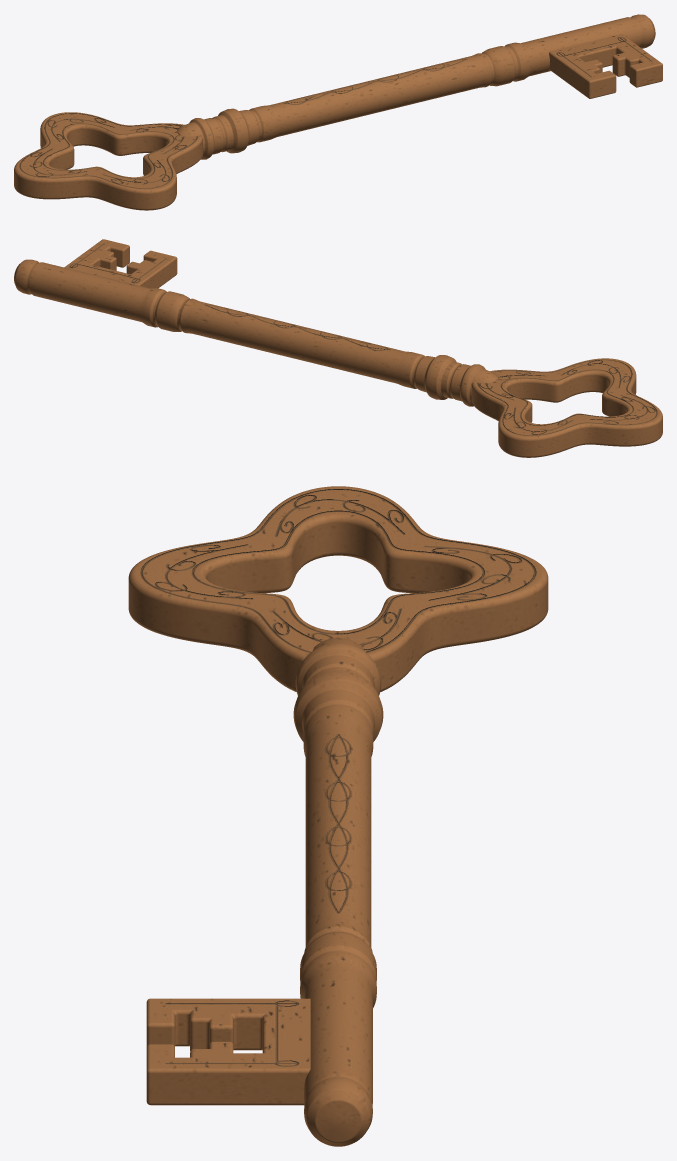
File: key-pickup-web.glb
3 renders of one model, top to bottom at view 1: azimuth 30°, elevation 25°; view 2: azimuth 150°, elevation 25°; view 3: azimuth 270°, elevation 25°, orthographic. The views are drawn at different scales.
Parts seen in each view (by area): view 1: CopperKey_Engraved_Mesh; view 2: CopperKey_Engraved_Mesh; view 3: CopperKey_Engraved_Mesh.
Boxes of the visible parts, left/top/right/bottom form: CopperKey_Engraved_Mesh: left=14, top=14, right=662, bottom=210; CopperKey_Engraved_Mesh: left=14, top=239, right=662, bottom=457; CopperKey_Engraved_Mesh: left=128, top=486, right=548, bottom=1146.
Size of the model in its own units: 0.1448 by 0.00889 by 0.0416.
1 material, 1 textured.
